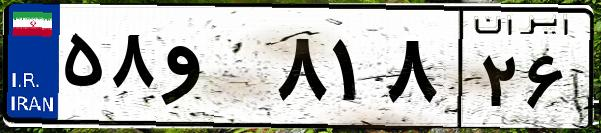1: (330, 28, 385, 110)
2: (475, 38, 525, 113)
5: (57, 26, 110, 100)
6: (525, 38, 570, 115)
8: (270, 28, 330, 110), (385, 28, 445, 110), (110, 28, 158, 98)
و: (158, 20, 270, 120)
